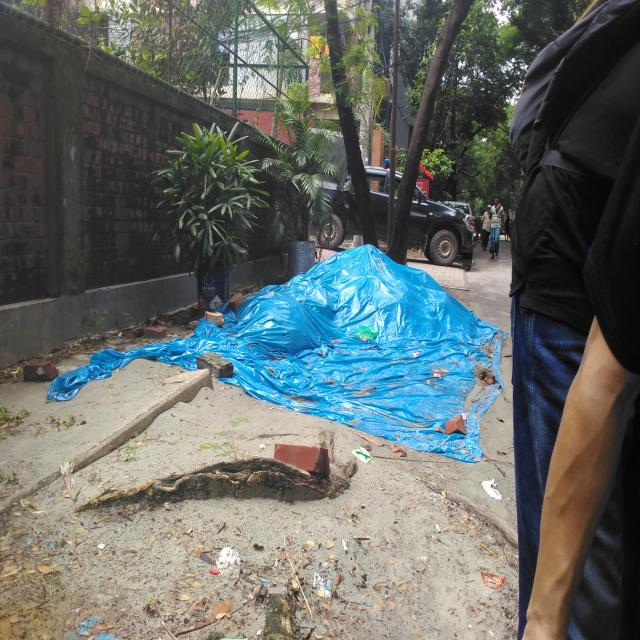artificial_container: (194, 258, 231, 314)
